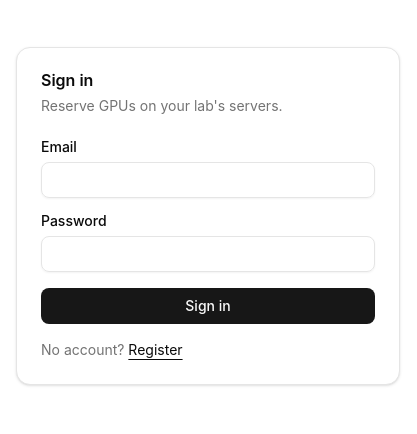
Test: login › shows wrong credentials as a form error
Type "ada@example.edu" into the field labelled "Email" at (208, 180), box [41,162,375,198]
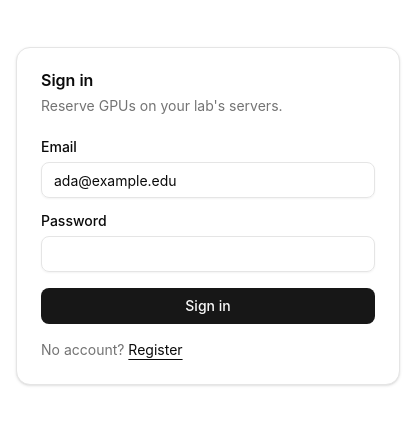
Type "wrong-password" into the password field labelled "Password" at (208, 254), box [41,236,375,272]
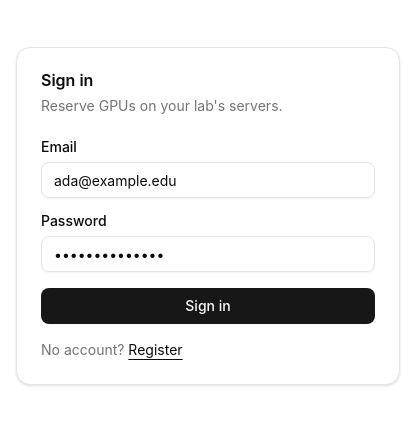
Click the button "Sign in" at (208, 306), box [41,288,375,324]
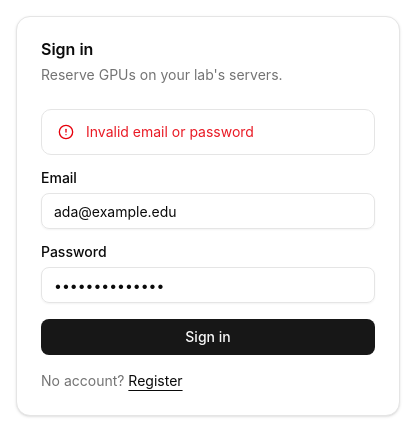
Now the message reads "Invalid email or password", box [86,123,254,140]
